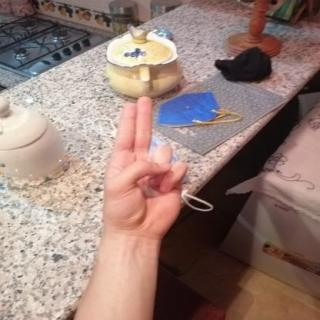TA: (91, 92, 197, 243)
